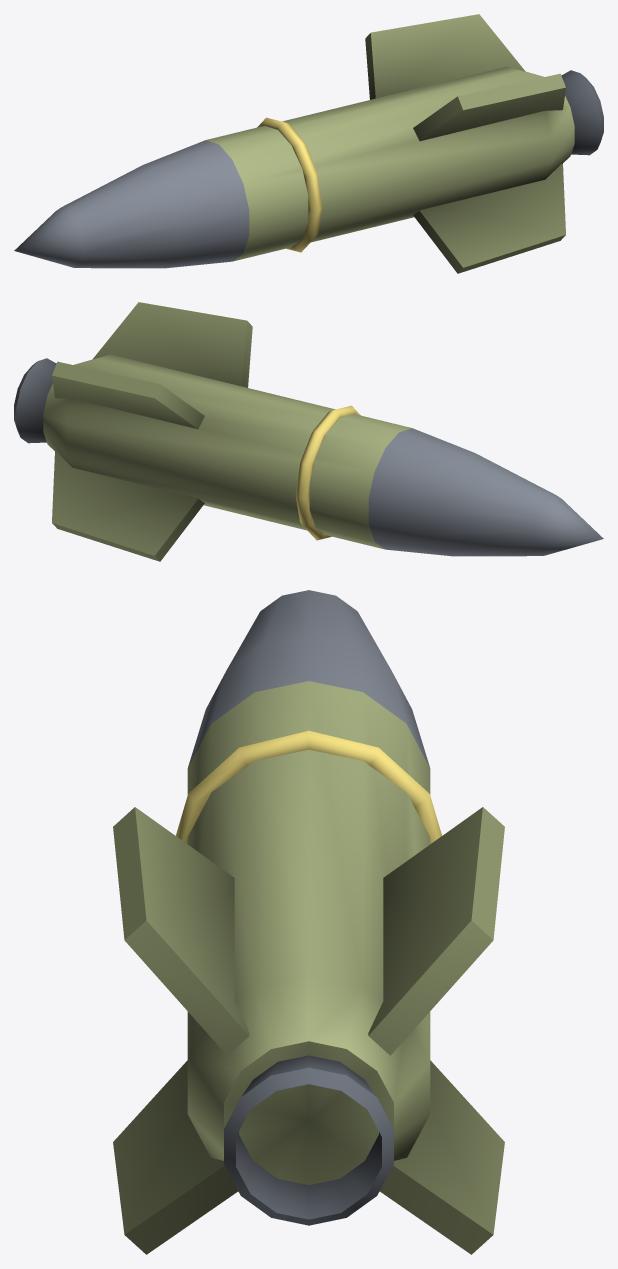
File: FragmentationMissile.fbx
The picture shows the model from 3 angles, top to bottom: view 1: azimuth 30°, elevation 25°; view 2: azimuth 150°, elevation 25°; view 3: azimuth 270°, elevation 25°; orthographic projection. The views are drawn at different scales.
Visible parts, largest first — view 1: rocket_frag; view 2: rocket_frag; view 3: rocket_frag.
Part boxes in pixels (x1,y1,x2,y2): rocket_frag: (14, 14, 603, 273); rocket_frag: (14, 302, 603, 561); rocket_frag: (113, 590, 504, 1254).
Bounding box in the file's own units: 1.06 × 0.3147 × 0.3147.
